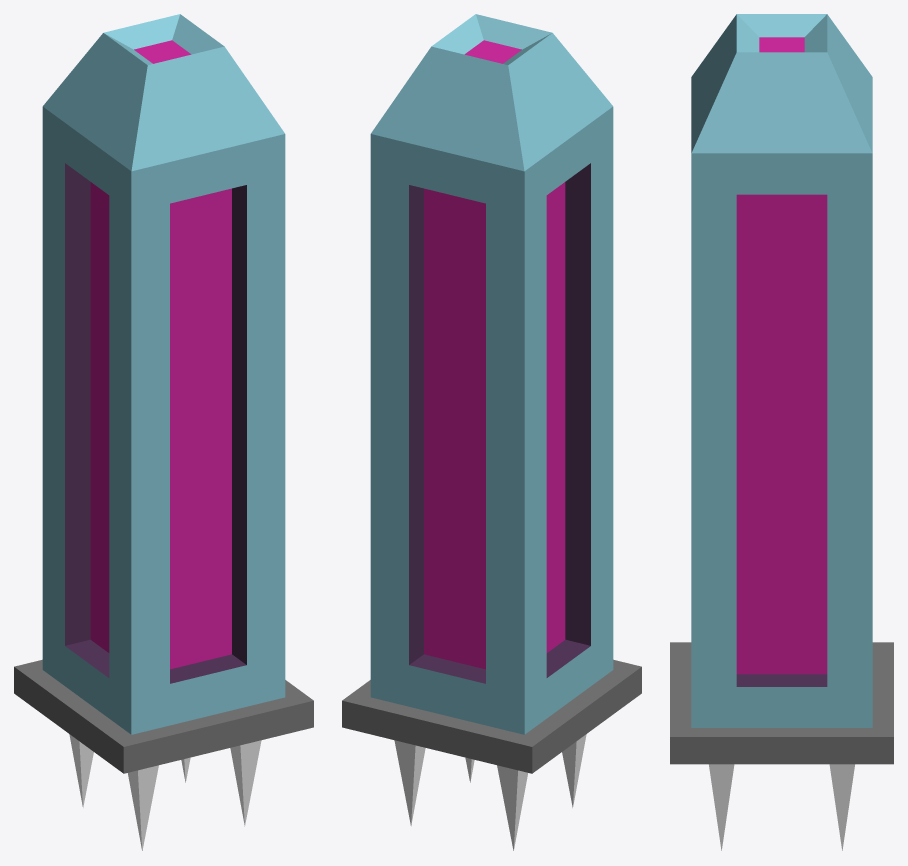
The model's file is beacon-tower.gltf.
3 views of the same model, side by side, from view 1: azimuth 30°, elevation 25°; view 2: azimuth 150°, elevation 25°; view 3: azimuth 270°, elevation 25° (orthographic).
Visible parts, largest first — view 1: cuboid; view 2: cuboid; view 3: cuboid.
Boxes of the visible parts, x1,y1,x2,y2 form: cuboid: (14,14,313,850); cuboid: (342,14,641,850); cuboid: (670,14,893,850).
Size of the model in its own units: 0.4634 by 1.81 by 0.4634.
1 material, 1 textured.
